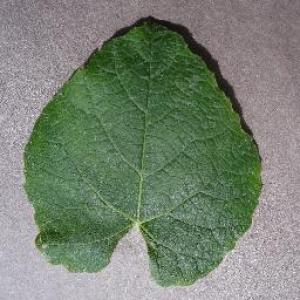Folha: (22, 17, 263, 288)
